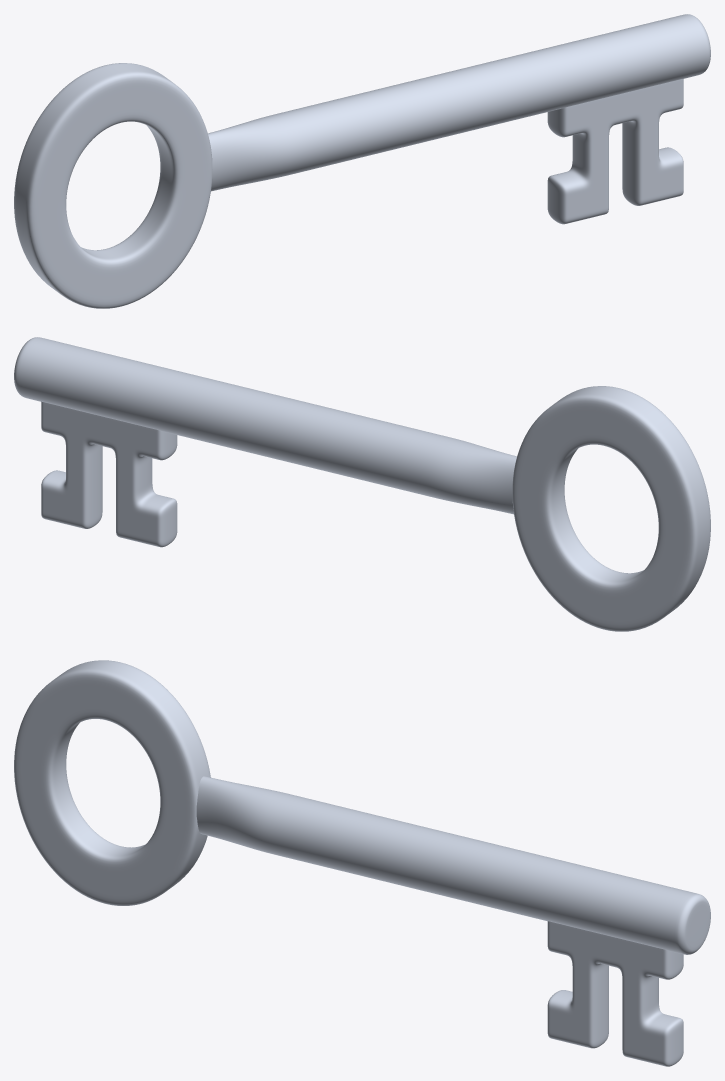
File: Key.fbx
3 renders of one model, top to bottom at view 1: azimuth 30°, elevation 25°; view 2: azimuth 150°, elevation 25°; view 3: azimuth 330°, elevation 25°, orthographic.
Visible parts, largest first — view 1: sleutel_steel, sleutel_handvat, sleutel_slotdeel; view 2: sleutel_steel, sleutel_handvat, sleutel_slotdeel; view 3: sleutel_steel, sleutel_handvat, sleutel_slotdeel.
Boxes of the visible parts, x1,y1,x2,y2 form: sleutel_steel: (208,14,710,191); sleutel_handvat: (14,63,212,308); sleutel_slotdeel: (547,78,683,224); sleutel_steel: (14,337,516,514); sleutel_handvat: (512,386,710,631); sleutel_slotdeel: (41,401,177,547); sleutel_steel: (196,776,710,954); sleutel_handvat: (14,660,210,905); sleutel_slotdeel: (547,921,683,1066).
Bounding box in the file's own units: 217 × 79.68 × 17.36.
